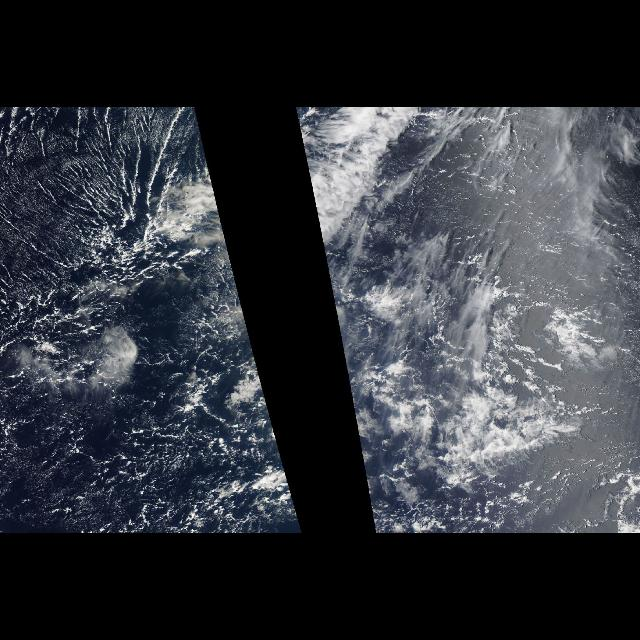Gravel: (4, 116, 296, 530)
Sugar: (0, 108, 242, 446)
